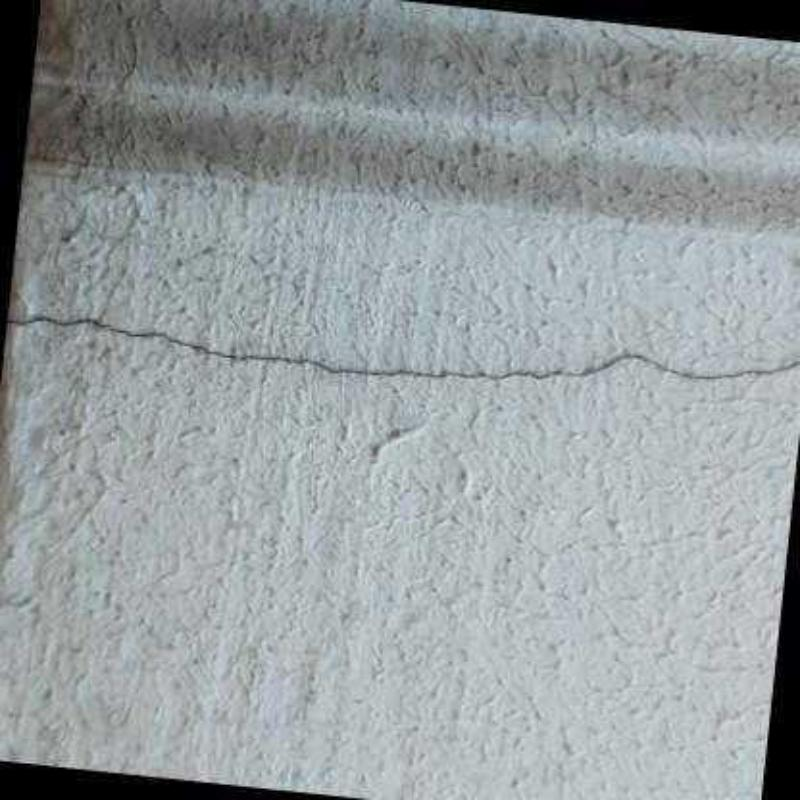crack: (11, 311, 800, 382)
